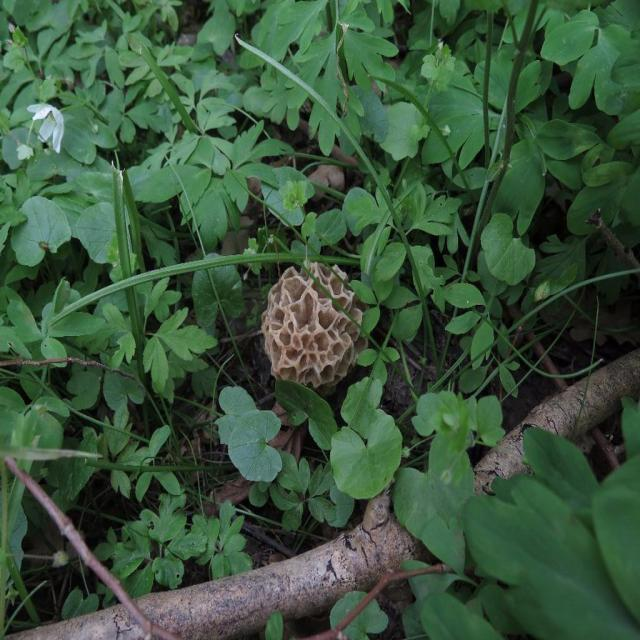Morchella esculenta: (264, 263, 364, 390)
